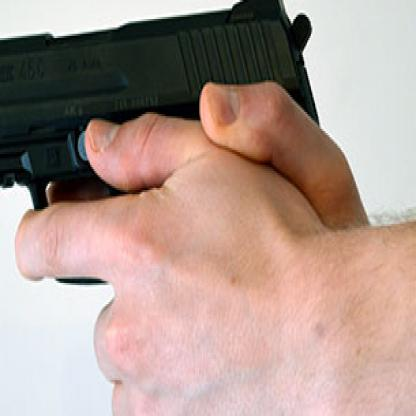gun: (0, 0, 351, 414)
